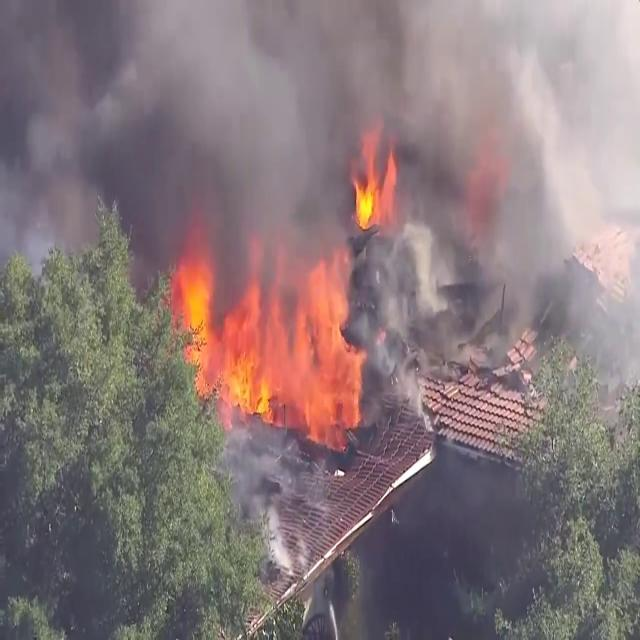Fire: (168, 239, 374, 437), (352, 150, 390, 233)
Smoke: (6, 0, 626, 379)
